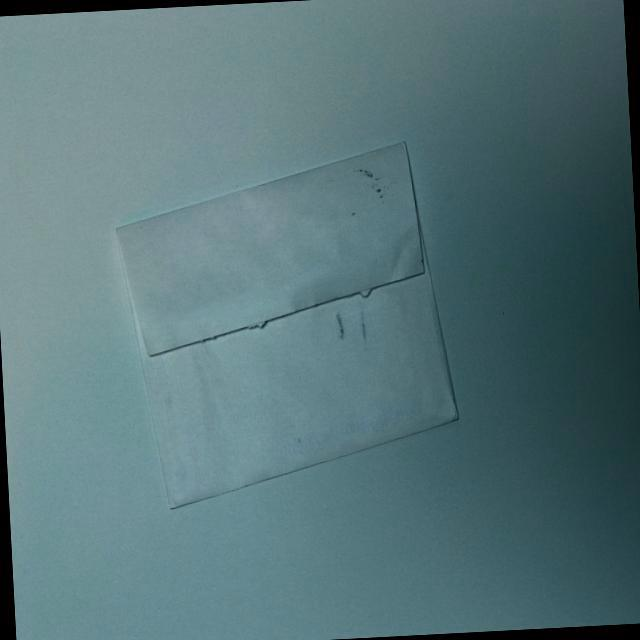paper: (106, 133, 468, 524)
